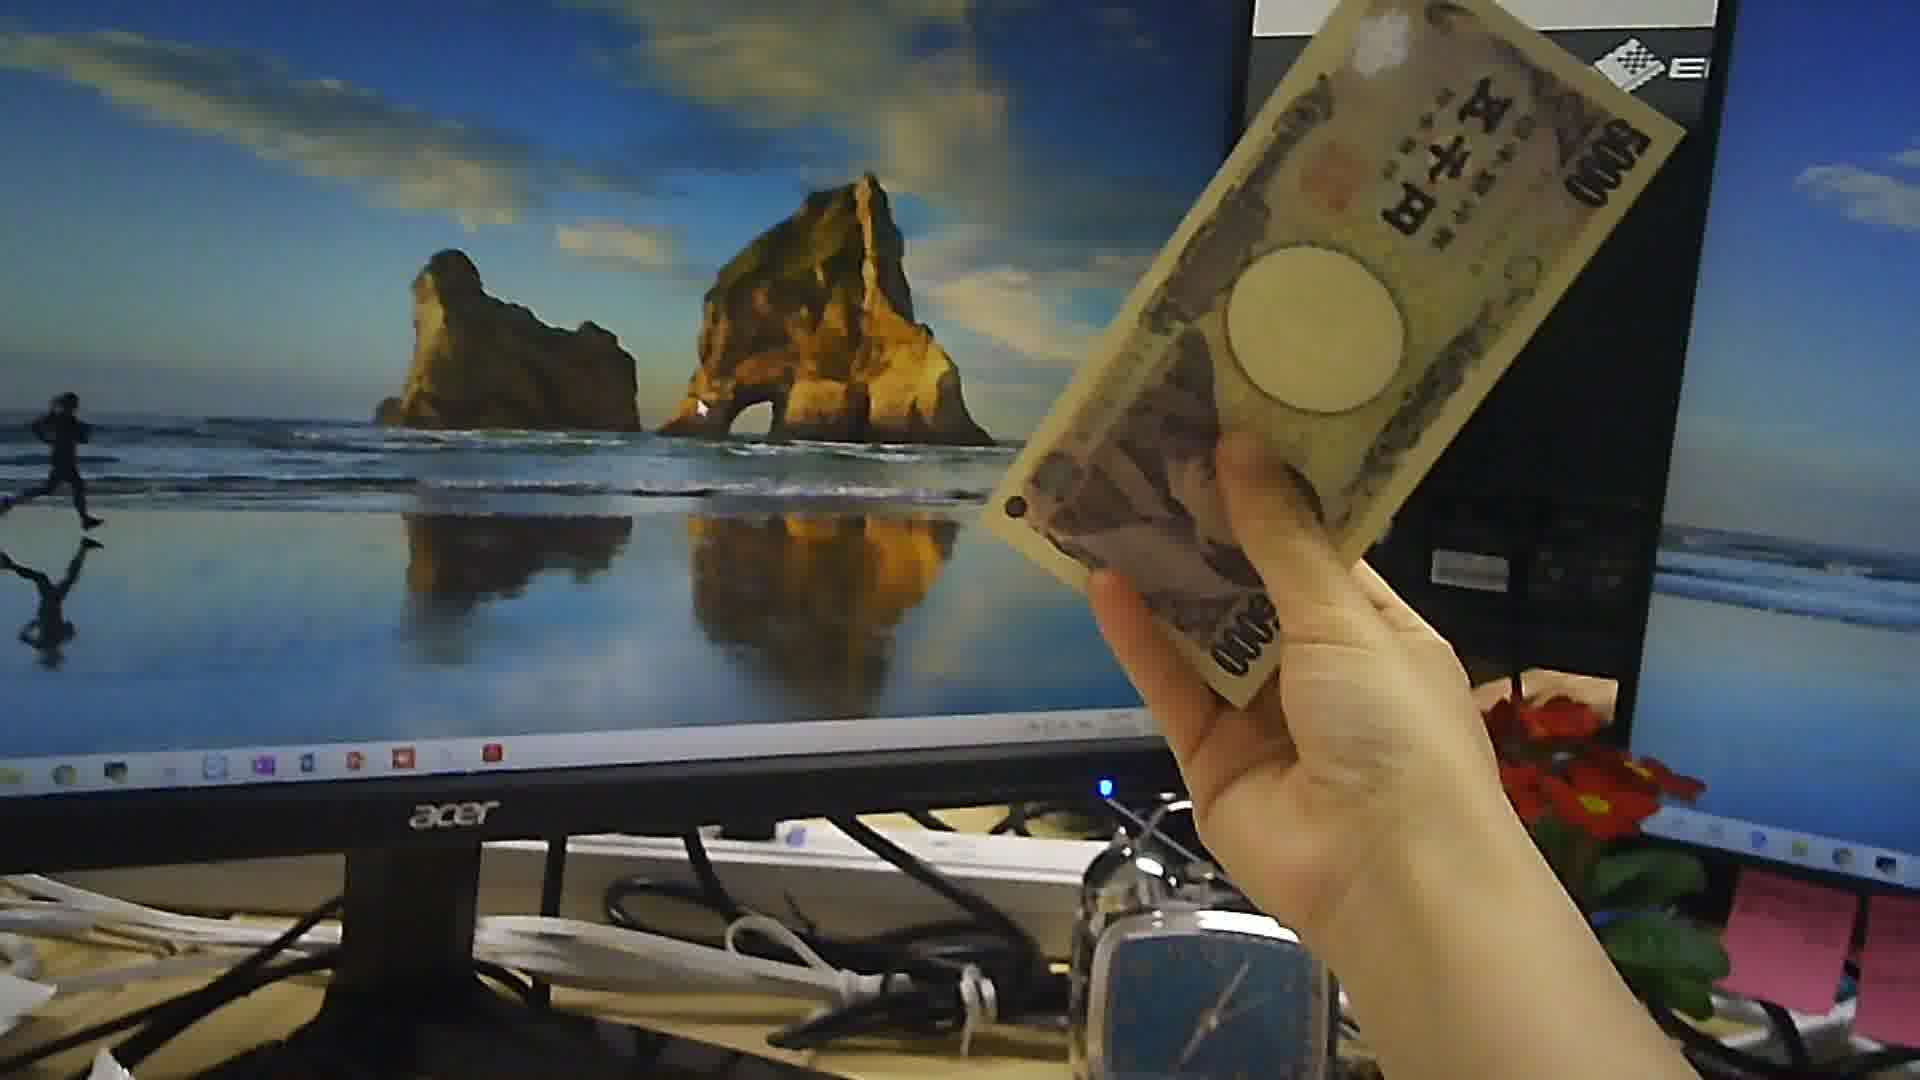5,000 Yen: (988, 5, 1665, 719)
